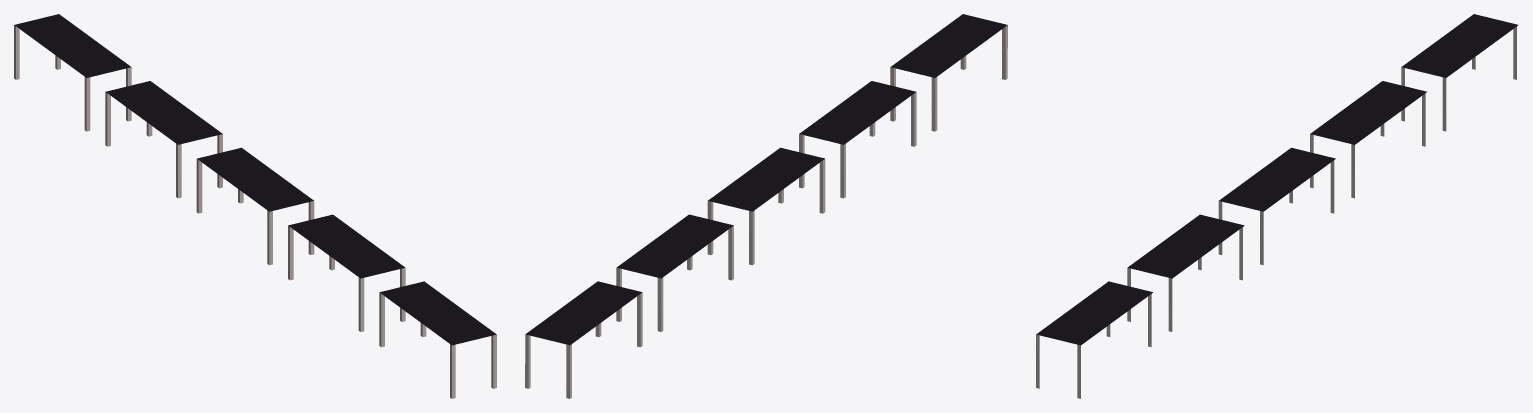
The picture shows the model from 3 angles, left to right: view 1: azimuth 30°, elevation 25°; view 2: azimuth 150°, elevation 25°; view 3: azimuth 330°, elevation 25°; orthographic projection.
Size of the model in its own units: 0.7812 by 0.8906 by 13.19.
Materials: 2 (2 with a texture image).
